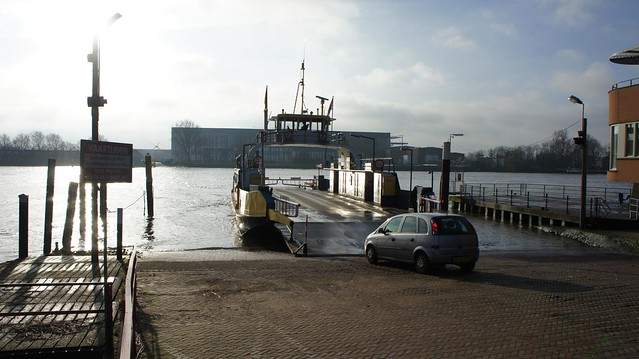car: (364, 211, 478, 273)
